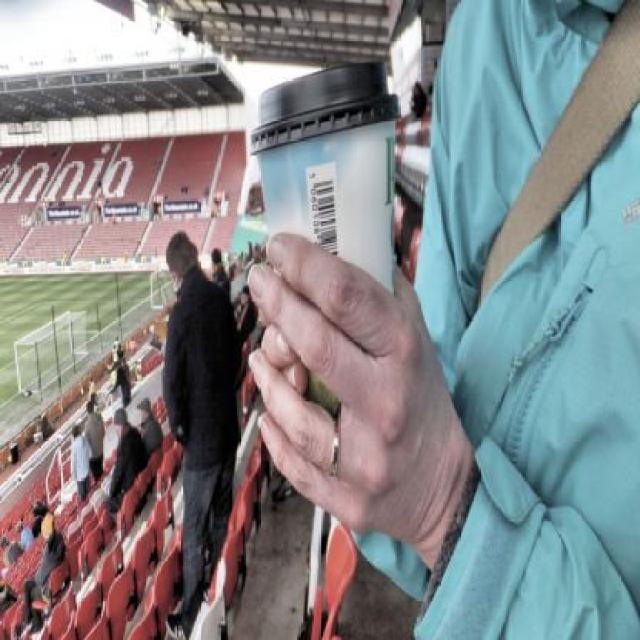Person: (246, 0, 639, 634), (157, 182, 238, 640), (20, 513, 66, 638), (107, 400, 145, 518), (82, 401, 107, 492), (68, 421, 92, 505), (109, 344, 136, 414), (135, 391, 167, 447)
